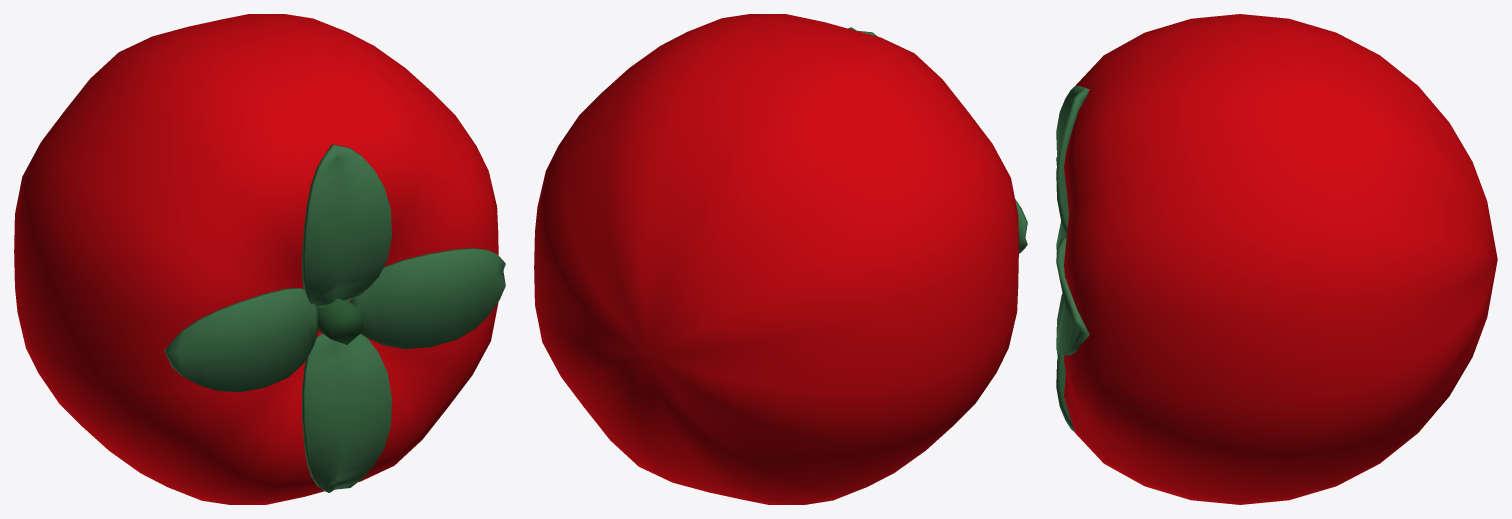
The model's file is Tomato.fbx.
3 renders of one model, left to right at view 1: azimuth 30°, elevation 25°; view 2: azimuth 150°, elevation 25°; view 3: azimuth 270°, elevation 25°, orthographic.
Parts seen in each view (by area): view 1: Sphere, Plane.001, Cylinder; view 2: Sphere; view 3: Sphere, Plane.001.
Part boxes in pixels (x1=…): Sphere: x1=14, y1=14, x2=498, y2=504; Plane.001: x1=164, y1=144, x2=505, y2=492; Cylinder: x1=318, y1=298, x2=363, y2=344; Sphere: x1=534, y1=14, x2=1018, y2=504; Sphere: x1=1064, y1=14, x2=1497, y2=504; Plane.001: x1=1056, y1=86, x2=1089, y2=432.
Size of the model in its own units: 91.11 by 91.11 by 83.72.
